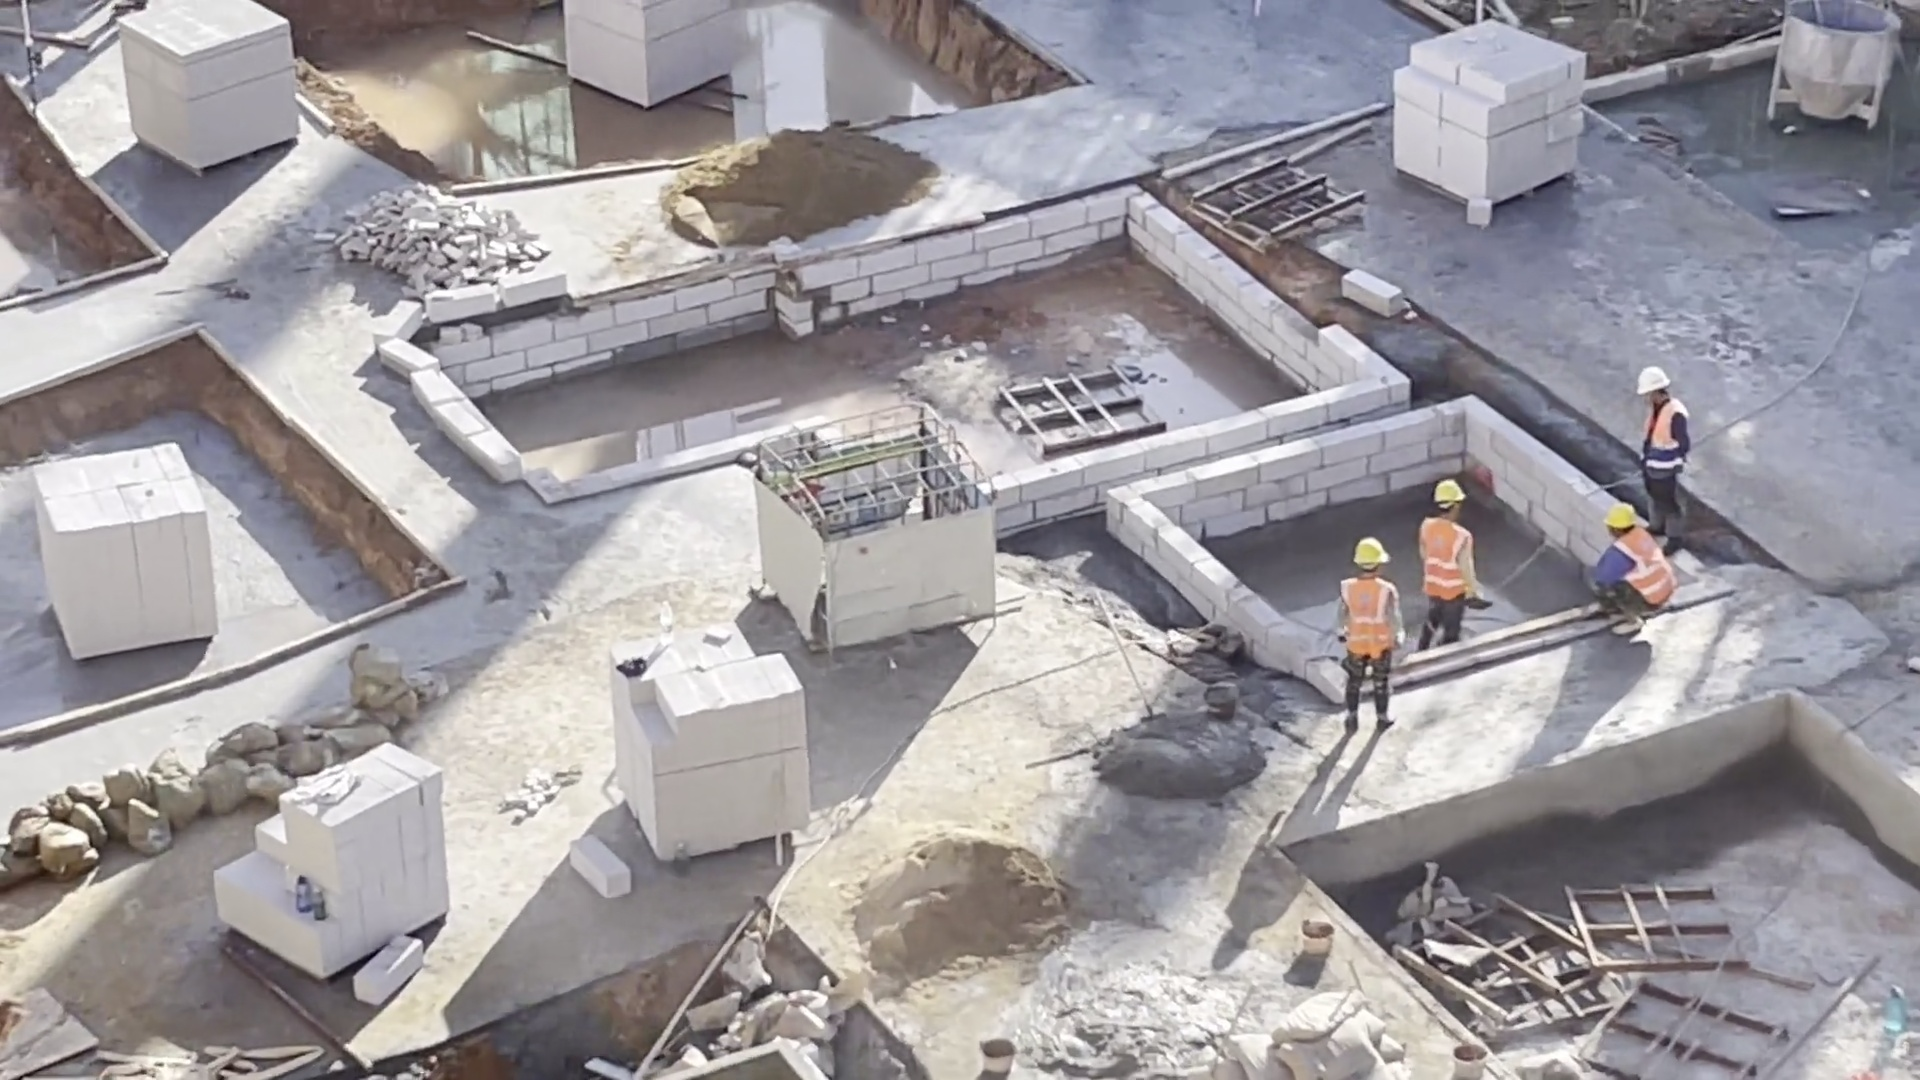brick: (215, 737, 444, 988), (604, 637, 815, 865), (22, 443, 233, 665), (1377, 17, 1591, 228)
helmet: (1627, 365, 1674, 404), (1605, 497, 1638, 530), (1357, 530, 1387, 565), (1433, 478, 1461, 507)
person: (1419, 465, 1495, 646), (1589, 498, 1684, 643), (1344, 530, 1404, 693), (1638, 350, 1688, 515)
vest: (1607, 533, 1672, 611), (1333, 578, 1396, 656), (1641, 408, 1694, 474), (1419, 520, 1461, 600)
